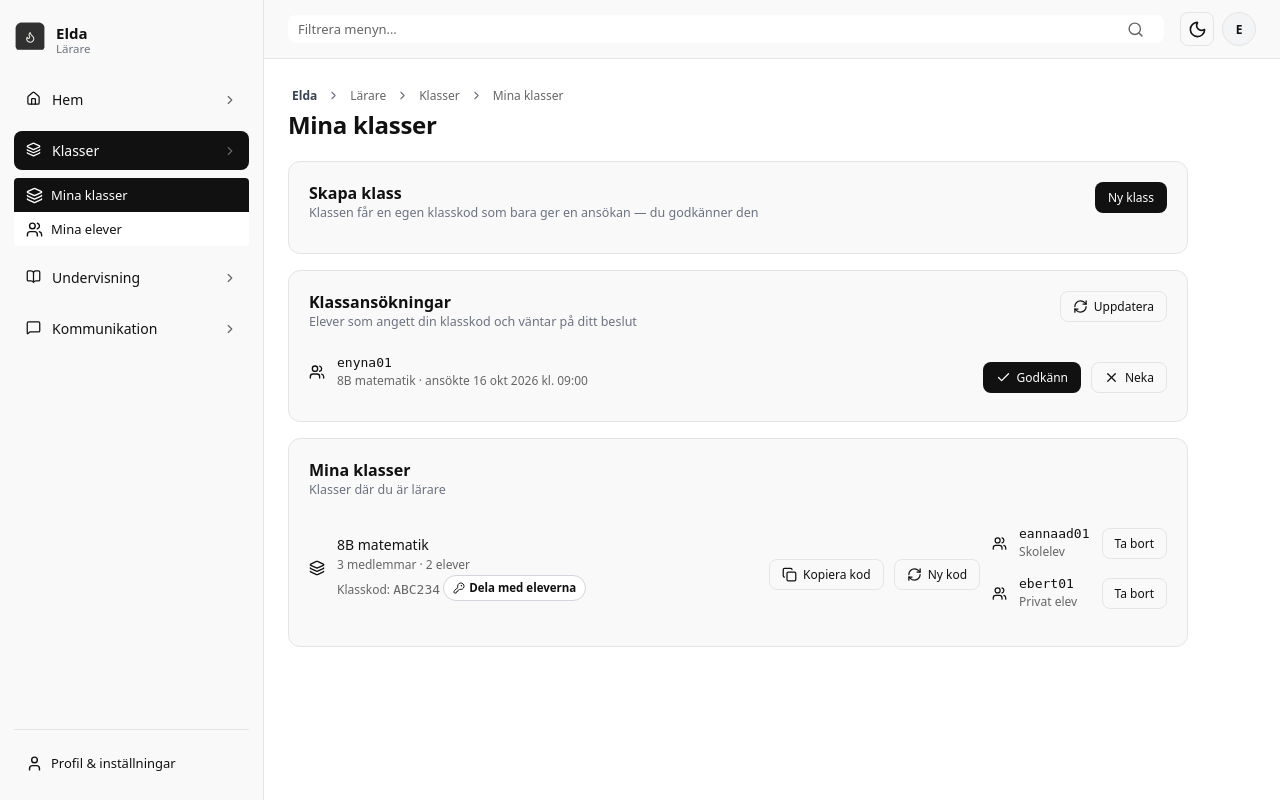
Test: klasser och klassansökningar › visar klasskoden och kan byta den
Check: the text "ABC234" is shown, box [393,582,440,597]
What coordinates should you click on to do the following:
click the button "Ny kod"
I would click on:
 (937, 574)
Its box is [894,558,980,590].
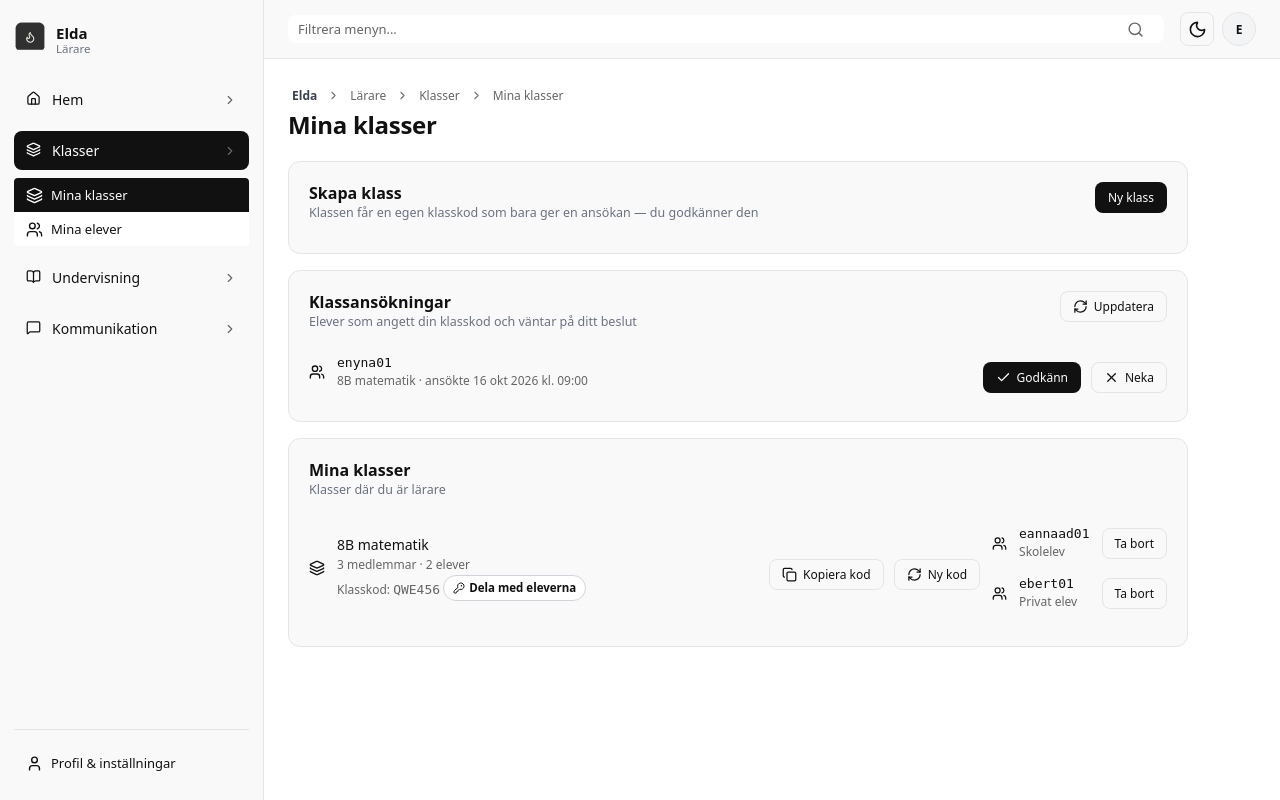
Check: the text "QWE456" is shown, box [393,582,440,597]
